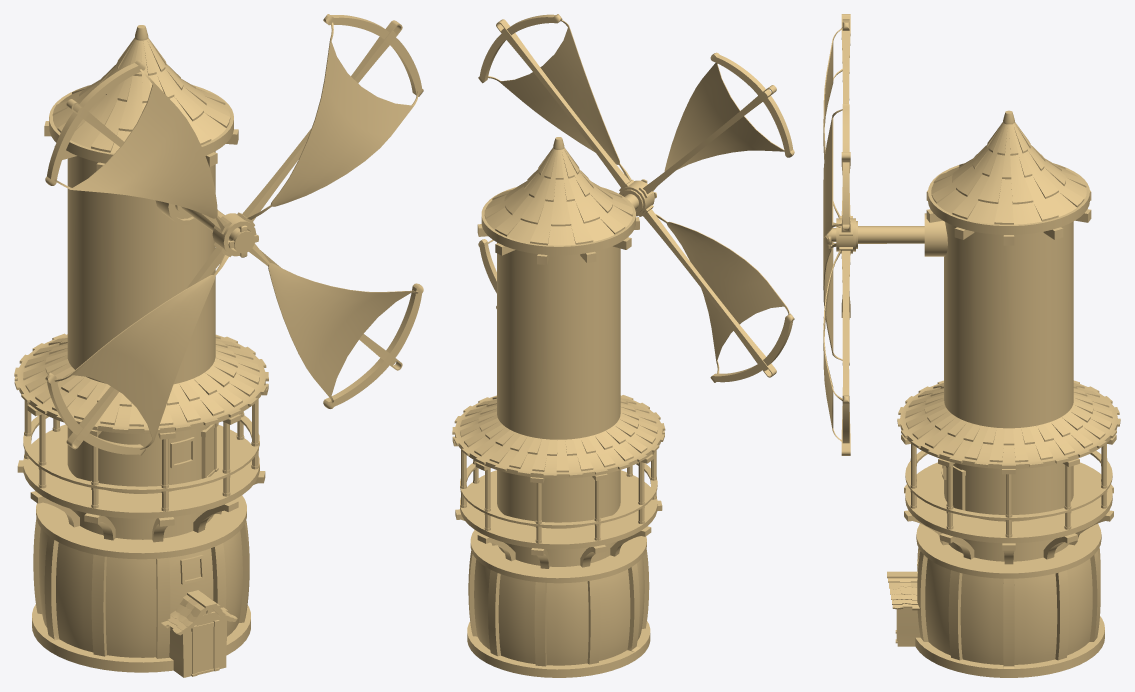
Rendered from Windmill(No-texture).fbx.
3 views of the same model, side by side, from view 1: azimuth 30°, elevation 25°; view 2: azimuth 150°, elevation 25°; view 3: azimuth 270°, elevation 25° (orthographic). The views are drawn at different scales.
Parts seen in each view (by area): view 1: Windmill, Wheel; view 2: Windmill, Wheel; view 3: Windmill, Wheel.
Boxes of the visible parts, x1,y1,x2,y2 form: Windmill: [14, 25, 268, 677]; Wheel: [45, 14, 423, 455]; Windmill: [452, 137, 665, 677]; Wheel: [478, 14, 794, 382]; Windmill: [827, 110, 1120, 677]; Wheel: [823, 14, 857, 455].
Size of the model in its own units: 3869 by 6462 by 3030.
